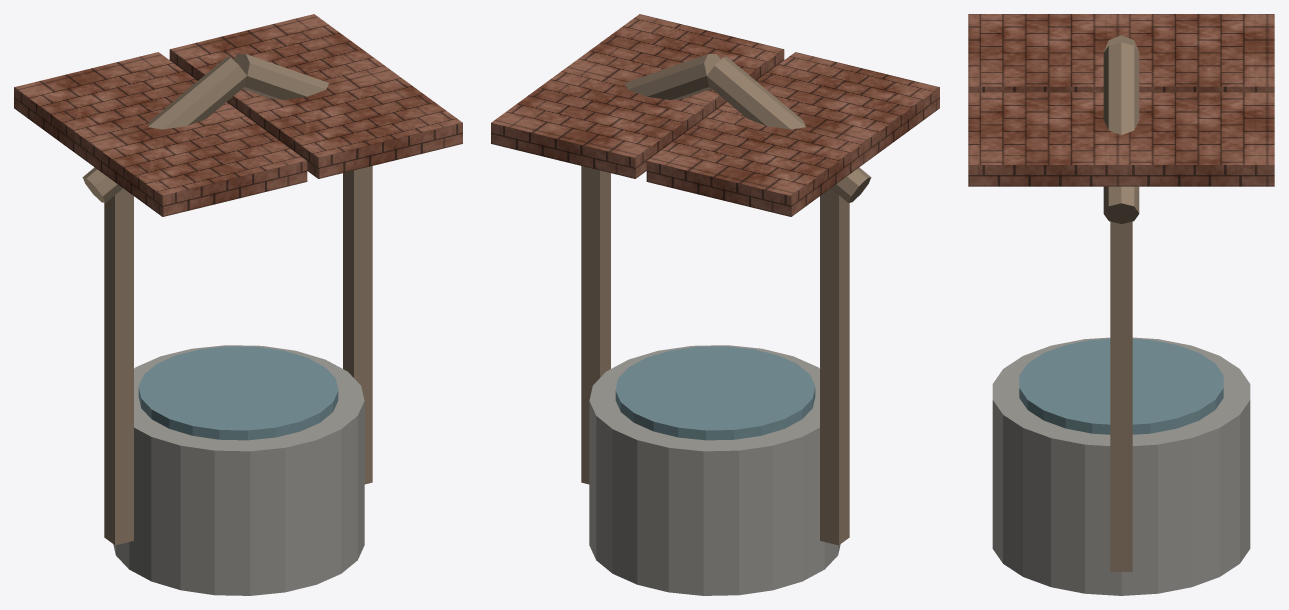
File: brunnen_holzdach.glb
The picture shows the model from 3 angles, left to right: view 1: azimuth 30°, elevation 25°; view 2: azimuth 150°, elevation 25°; view 3: azimuth 270°, elevation 25°; orthographic projection. The views are drawn at different scales.
Visible parts, largest first — view 1: brunnen_holzdach_000, brunnen_holzdach_008, brunnen_holzdach_009, brunnen_holzdach_001, brunnen_holzdach_002, brunnen_holzdach_003, brunnen_holzdach_004, brunnen_holzdach_005; view 2: brunnen_holzdach_000, brunnen_holzdach_008, brunnen_holzdach_009, brunnen_holzdach_001, brunnen_holzdach_002, brunnen_holzdach_003, brunnen_holzdach_004, brunnen_holzdach_005; view 3: brunnen_holzdach_000, brunnen_holzdach_009, brunnen_holzdach_008, brunnen_holzdach_001, brunnen_holzdach_003, brunnen_holzdach_005.
Part boxes in pixels (<box>): brunnen_holzdach_000: <box>113,345,364,595</box>; brunnen_holzdach_008: <box>14,52,307,216</box>; brunnen_holzdach_009: <box>169,14,462,178</box>; brunnen_holzdach_001: <box>138,346,338,440</box>; brunnen_holzdach_002: <box>104,188,133,545</box>; brunnen_holzdach_003: <box>343,166,372,484</box>; brunnen_holzdach_004: <box>82,56,246,202</box>; brunnen_holzdach_005: <box>233,54,328,99</box>; brunnen_holzdach_000: <box>589,345,840,595</box>; brunnen_holzdach_008: <box>646,52,939,216</box>; brunnen_holzdach_009: <box>491,14,784,178</box>; brunnen_holzdach_001: <box>615,346,815,440</box>; brunnen_holzdach_002: <box>820,188,849,545</box>; brunnen_holzdach_003: <box>581,166,610,484</box>; brunnen_holzdach_004: <box>707,56,871,202</box>; brunnen_holzdach_005: <box>625,54,720,99</box>; brunnen_holzdach_000: <box>992,337,1250,595</box>; brunnen_holzdach_009: <box>968,92,1274,186</box>; brunnen_holzdach_008: <box>968,14,1274,92</box>; brunnen_holzdach_001: <box>1019,338,1223,434</box>; brunnen_holzdach_003: <box>1110,221,1132,571</box>; brunnen_holzdach_005: <box>1103,42,1139,223</box>.
Size of the model in its own units: 2.42 by 3.7 by 2.05.
1 material, 1 textured.
